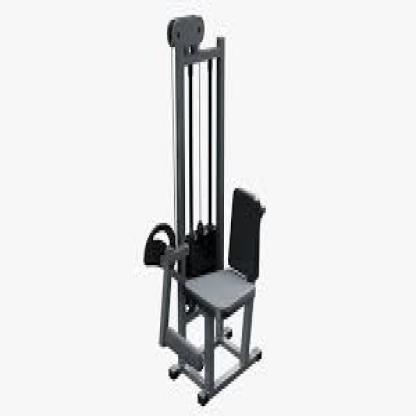leg extension: (141, 9, 272, 411)
